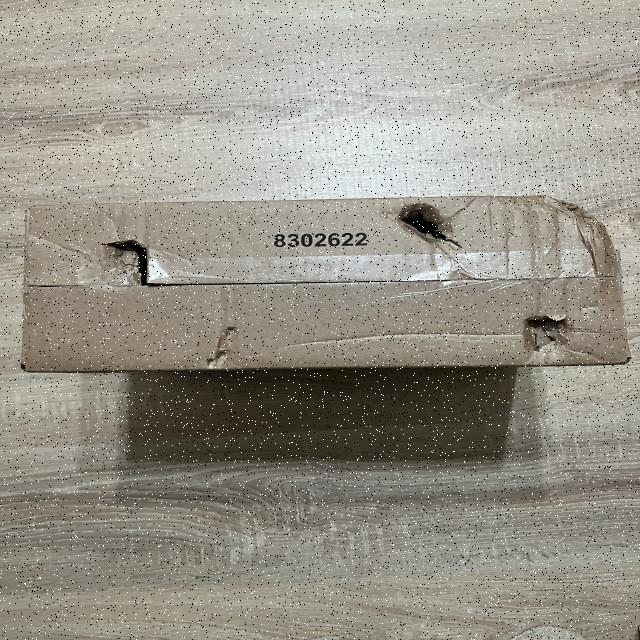damaged: (11, 191, 633, 382), (70, 226, 189, 304), (493, 298, 606, 368), (536, 184, 612, 268), (385, 198, 475, 256), (197, 320, 256, 374)
